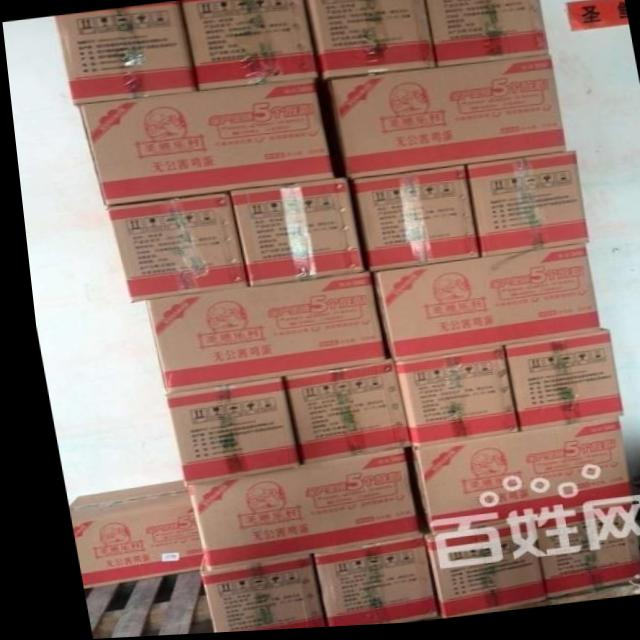box: (75, 82, 329, 205), (138, 274, 376, 393), (326, 62, 563, 181), (177, 453, 407, 570), (366, 249, 594, 365), (401, 423, 620, 537), (103, 194, 240, 302), (156, 379, 291, 487), (57, 481, 191, 588), (55, 3, 195, 103), (226, 181, 356, 287), (349, 169, 475, 274), (275, 364, 402, 467), (460, 156, 582, 261), (385, 350, 510, 451), (181, 0, 315, 94), (411, 522, 533, 621), (496, 336, 614, 438), (300, 538, 423, 630), (306, 0, 434, 82), (521, 509, 629, 604), (185, 556, 311, 634), (424, 0, 548, 73)
